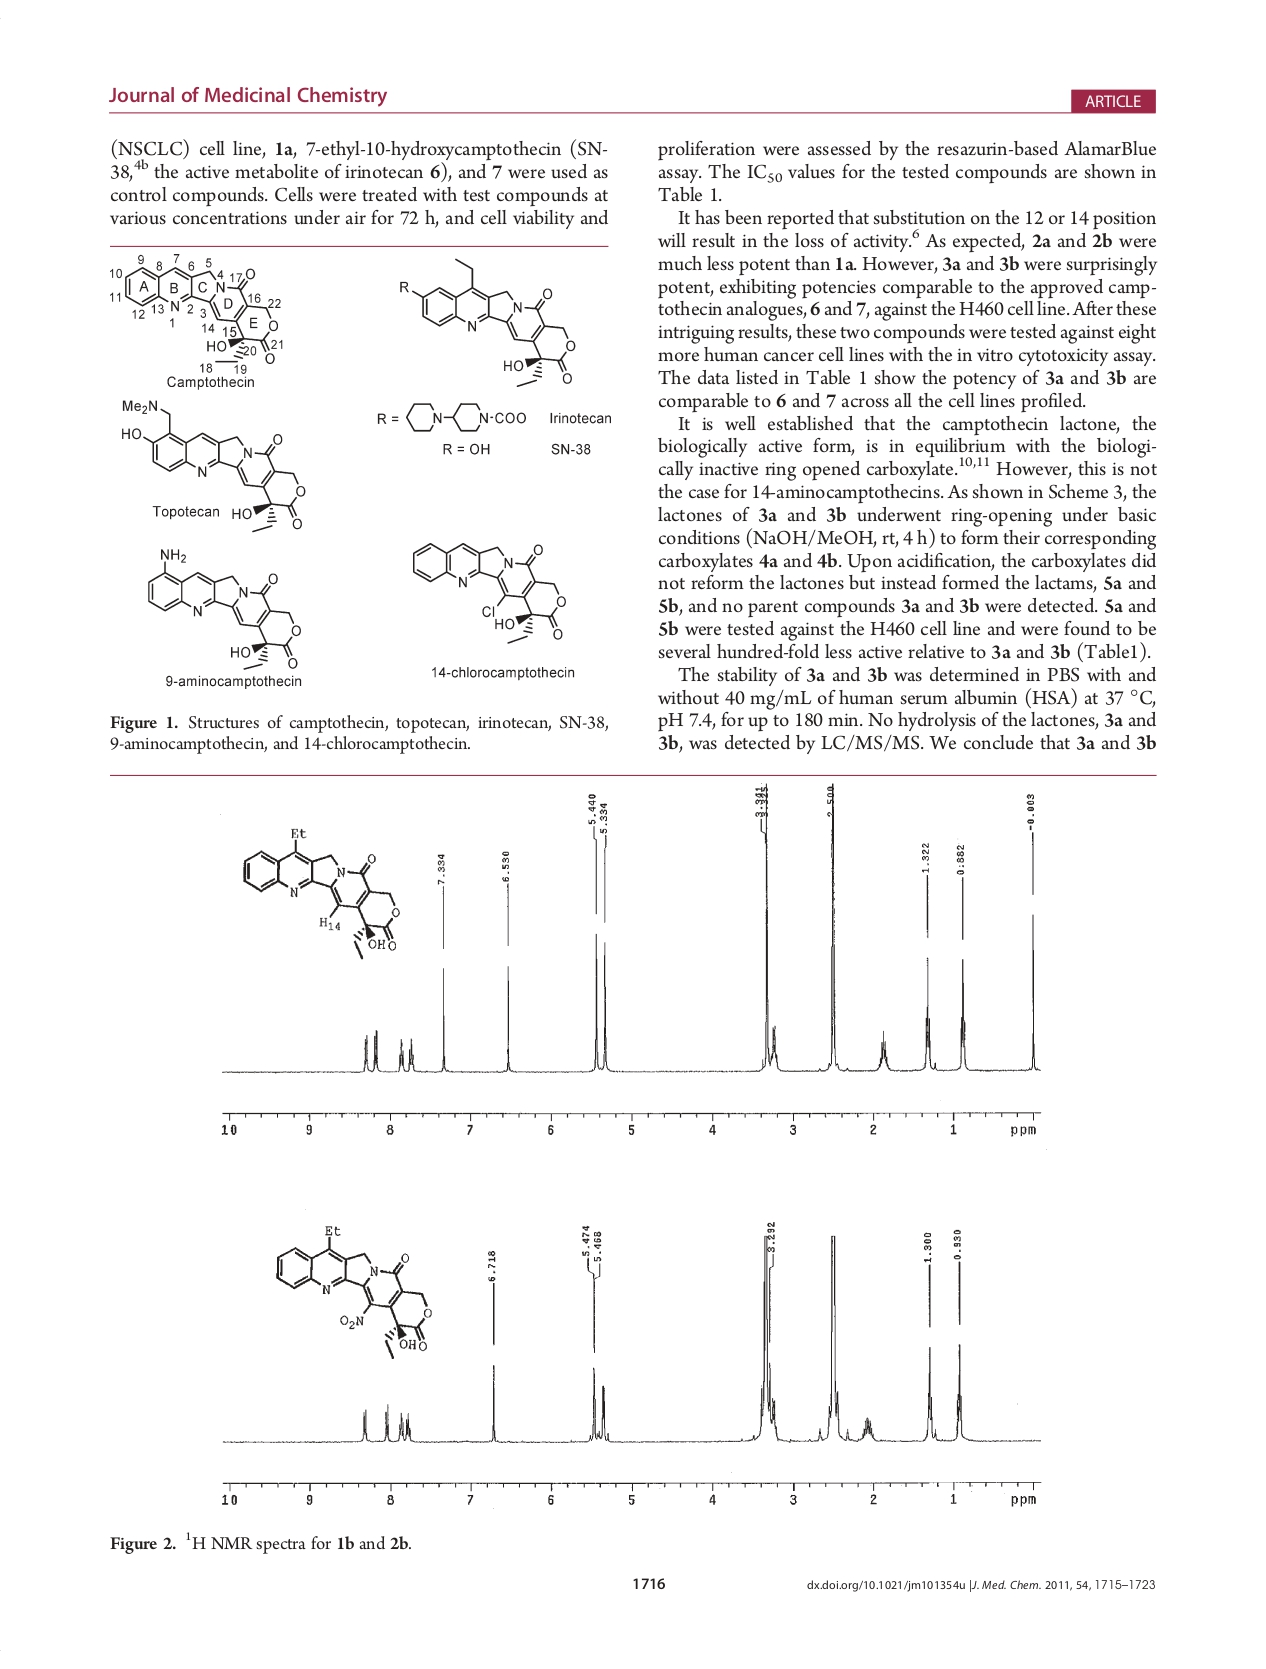exist_molecular: (110, 398, 305, 535), (391, 253, 580, 390), (270, 1218, 438, 1363), (239, 826, 403, 960), (140, 543, 302, 672), (410, 536, 569, 645), (118, 266, 285, 366), (404, 399, 528, 438)
